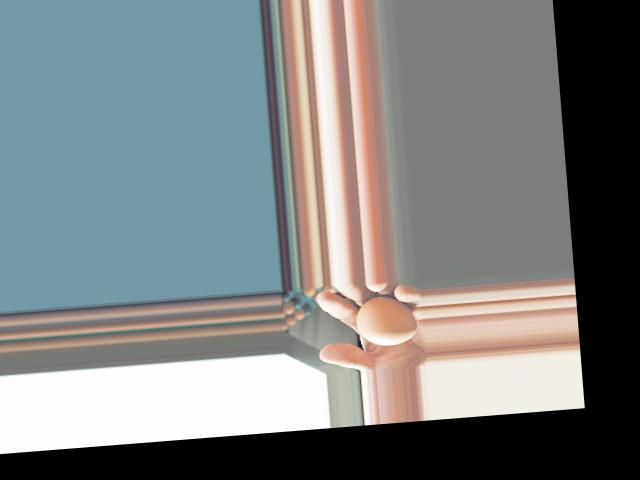egg: (354, 292, 420, 347)
